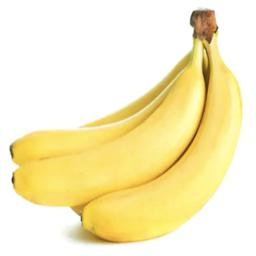Banana Fresh: (0, 0, 256, 253)
